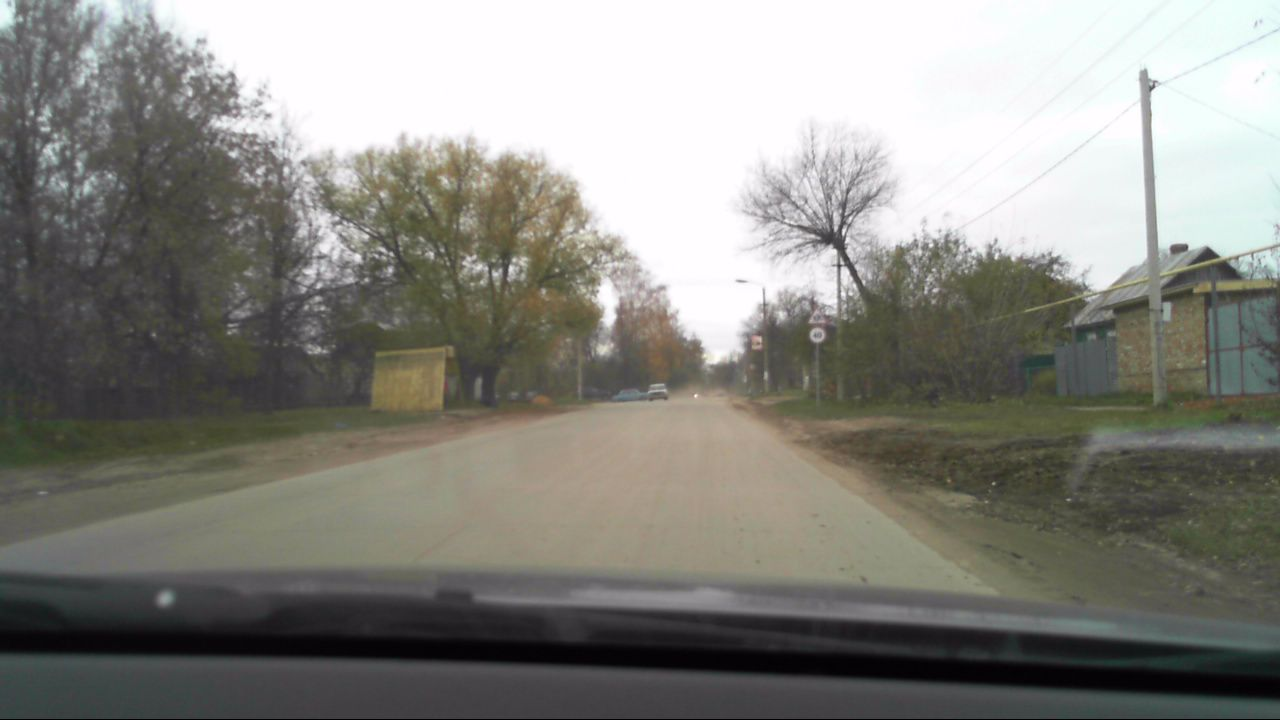speed_warning_40: (807, 327, 826, 343)
